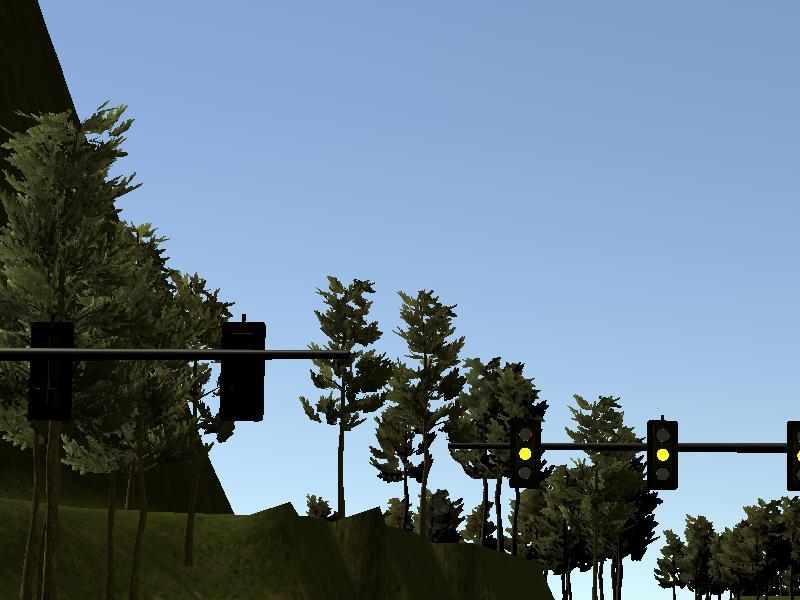Yellow: (648, 420, 678, 490), (510, 418, 539, 488), (788, 421, 800, 491)
